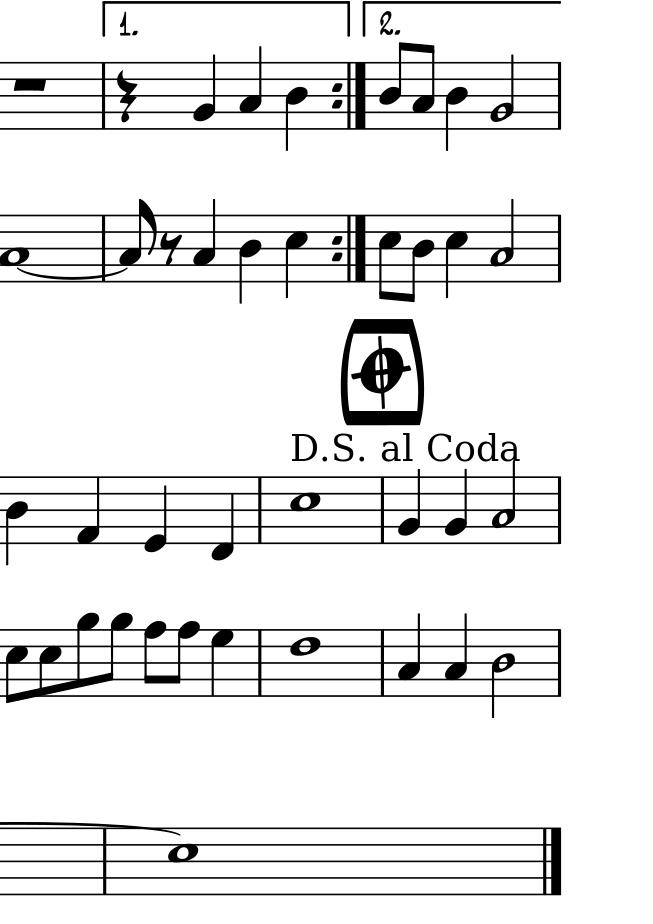1_3: (1, 209, 28, 291)
1_5: (167, 825, 200, 894), (290, 476, 321, 546)
1_6: (289, 628, 321, 698)
2_2: (490, 53, 516, 132)
2_3: (488, 197, 516, 287), (492, 460, 517, 547)
2_4: (491, 628, 514, 718)
4_-1: (210, 475, 235, 561)
4_0: (144, 474, 167, 554)
4_1: (77, 474, 100, 545)
4_2: (191, 53, 216, 132), (444, 469, 469, 546), (397, 469, 421, 546)
4_3: (189, 198, 225, 288), (235, 44, 263, 131), (444, 612, 469, 698), (398, 614, 422, 699)
4_4: (235, 211, 264, 307), (443, 60, 471, 154), (284, 60, 309, 152), (4, 475, 28, 566)
4_5: (441, 208, 477, 299), (281, 210, 315, 301)
4_7: (210, 629, 234, 698)
8_3: (119, 198, 154, 287), (412, 43, 436, 131)
8_4: (377, 42, 410, 131), (407, 209, 437, 304)
8_5: (371, 212, 403, 308), (4, 629, 28, 704), (37, 628, 62, 699)
8_8: (173, 620, 200, 699), (142, 619, 167, 698)
8_9: (102, 612, 133, 698), (74, 612, 100, 700)
Coda: (353, 336, 410, 404)
DSalcoda: (288, 429, 520, 464)
Prima_volta: (99, 1, 353, 40)
Rests1: (7, 74, 53, 92)
Rests4: (115, 70, 139, 124)
Rests8: (159, 228, 183, 263)
RightRepeatSign: (329, 61, 369, 129), (331, 213, 370, 282)
Seconda_volta: (360, 1, 565, 38)
Single_barline: (550, 62, 567, 131), (550, 214, 567, 281), (96, 215, 113, 280), (551, 476, 567, 545), (251, 477, 267, 543), (97, 828, 112, 896), (375, 477, 390, 544), (551, 629, 566, 696), (252, 629, 267, 695), (375, 629, 390, 695), (97, 62, 111, 129)
Slur: (17, 269, 126, 280)
